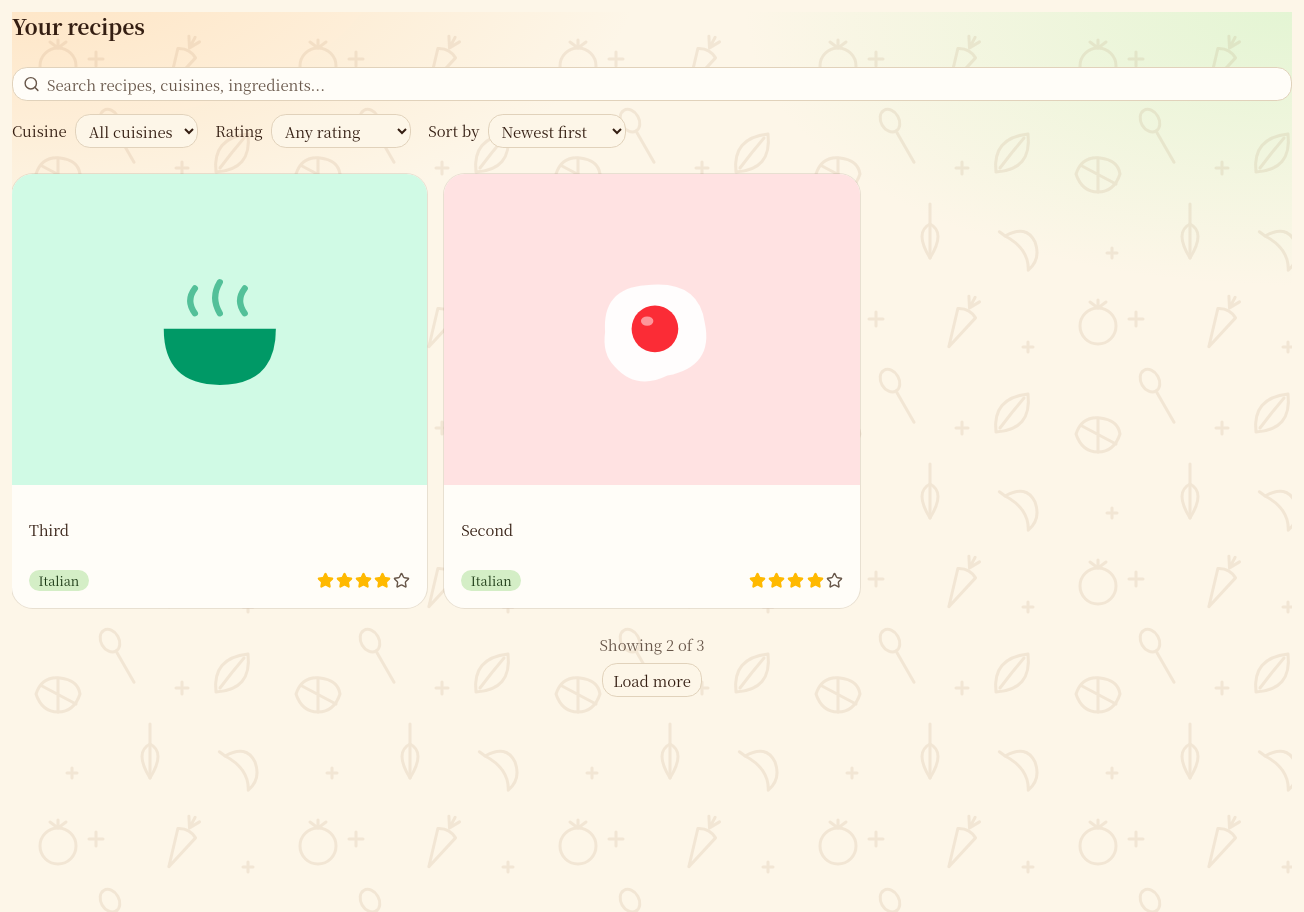
Test: RecipeListPage › loads more recipes on request
The width and height of the screenshot is (1304, 912).
Click the button "Load more" at (652, 680), box [602,664,702,698]
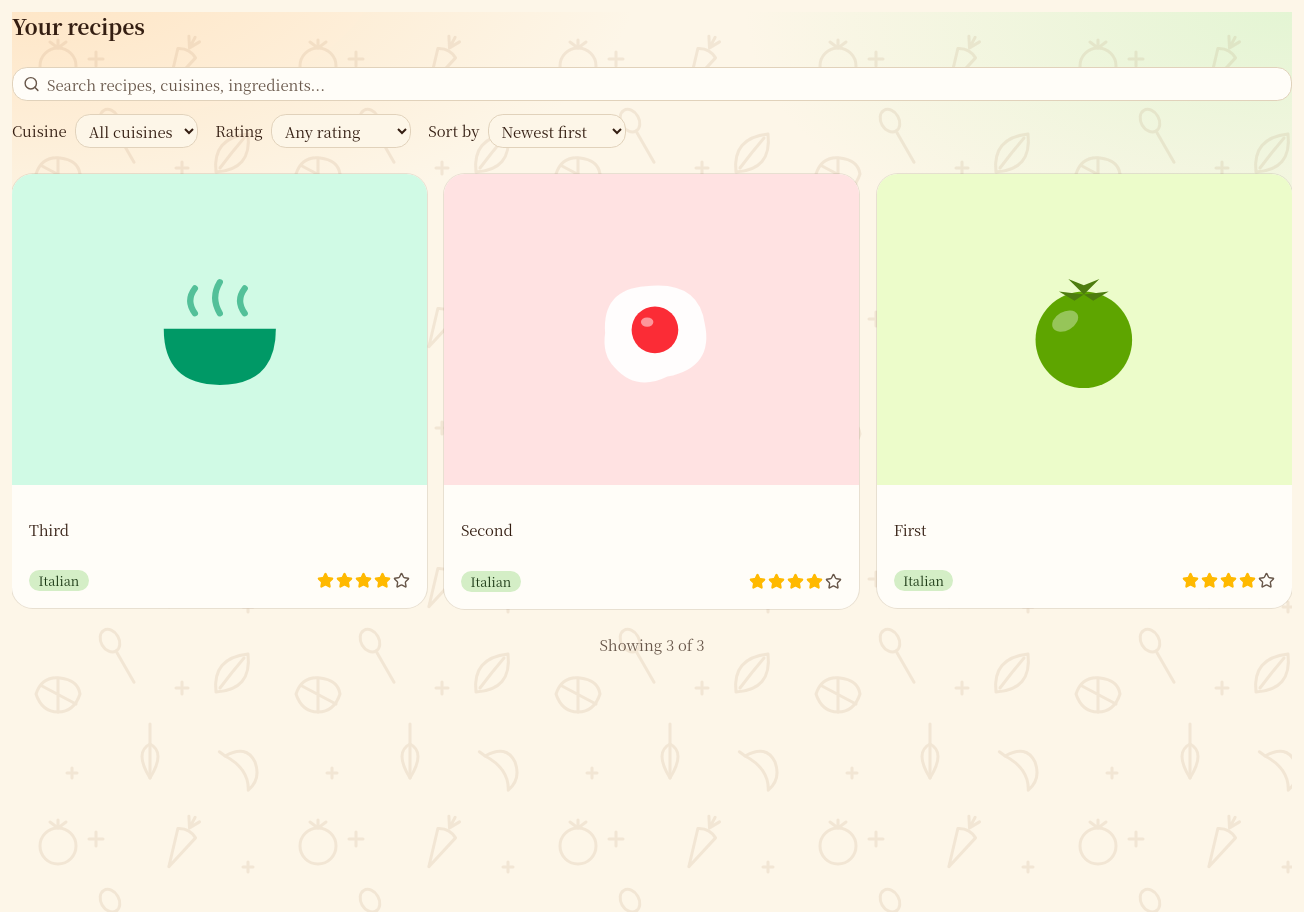
Check: the heading "First" is shown, box [894,519,926,540]
Check: the text "Showing 3 of 3" is shown, box [600,634,705,655]
